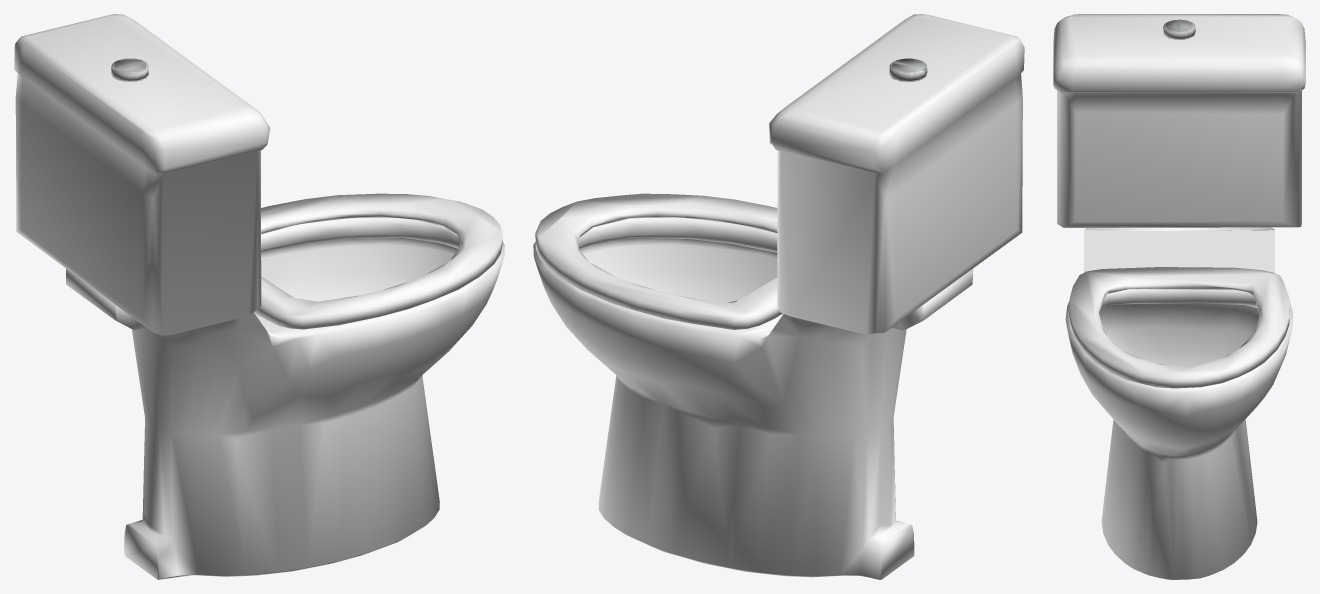
File: int_114.fbx
3 renders of one model, left to right at view 1: azimuth 30°, elevation 25°; view 2: azimuth 150°, elevation 25°; view 3: azimuth 270°, elevation 25°, orthographic. The views are drawn at different scales.
Visible parts, largest first — view 1: inodoro.001; view 2: inodoro.001; view 3: inodoro.001.
Part boxes in pixels (bbox=[...]): inodoro.001: bbox=[14, 14, 504, 579]; inodoro.001: bbox=[533, 14, 1024, 579]; inodoro.001: bbox=[1053, 14, 1305, 579].
Bounding box in the file's own units: 107 × 126 × 66.71.
1 material, 1 textured.
